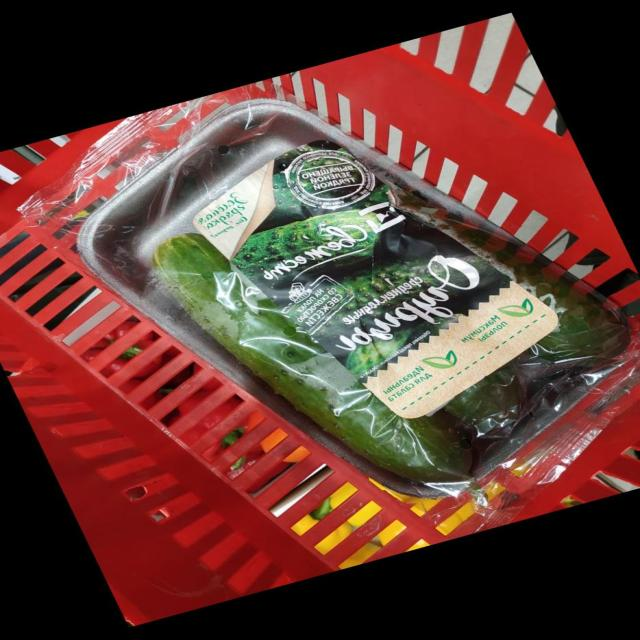Cucumber: (151, 233, 472, 485), (397, 202, 628, 366), (444, 364, 519, 438)
